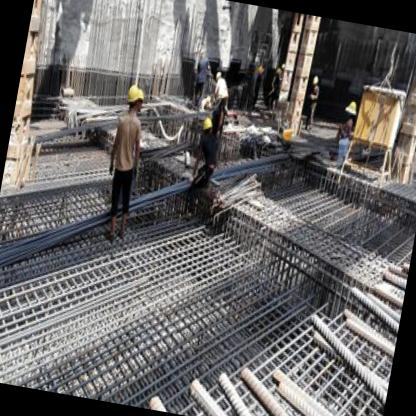helmet: (121, 80, 143, 115), (132, 84, 148, 114), (200, 112, 218, 138)
